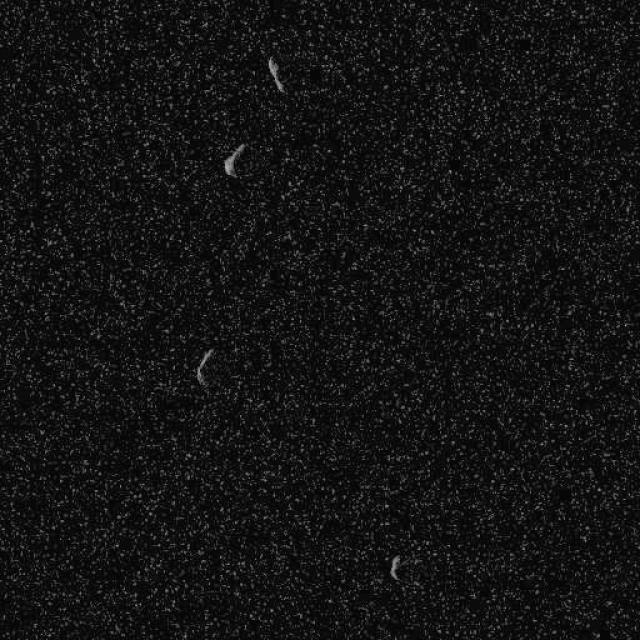D2: (222, 141, 246, 179), (195, 347, 216, 388), (265, 54, 286, 94), (388, 554, 402, 581)
